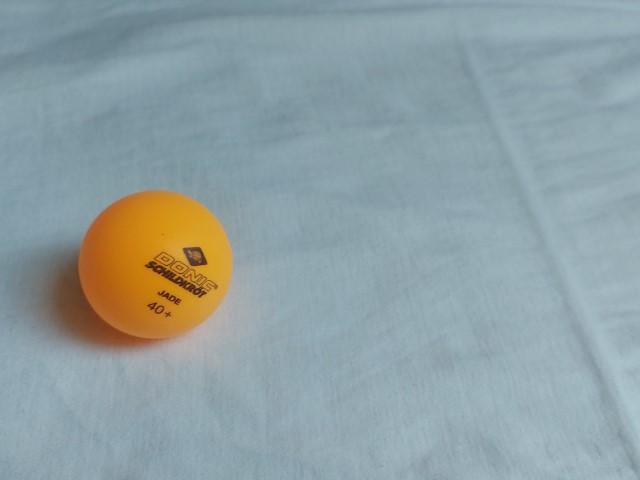oball: (72, 185, 239, 346)
